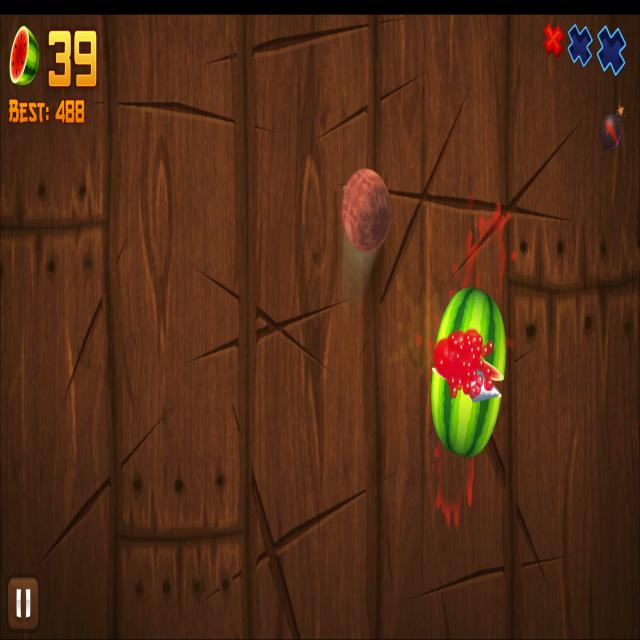fruit: (340, 166, 392, 253)
